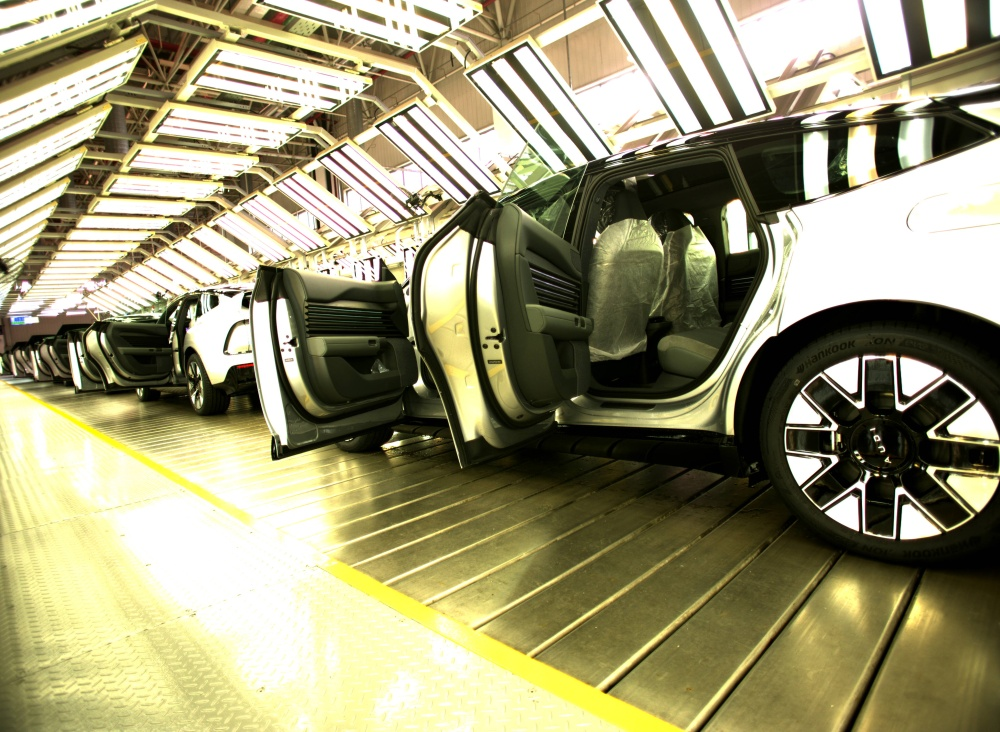armrest_color: (524, 302, 595, 339)
panel_color: (302, 298, 395, 333), (526, 260, 584, 315), (304, 336, 386, 358)
